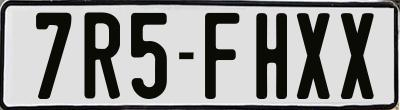5: (128, 10, 166, 102)
7: (36, 13, 77, 105)
F: (204, 10, 241, 98)
H: (255, 13, 288, 99)
R: (81, 11, 117, 98)
X: (340, 10, 376, 102), (296, 11, 330, 98)
